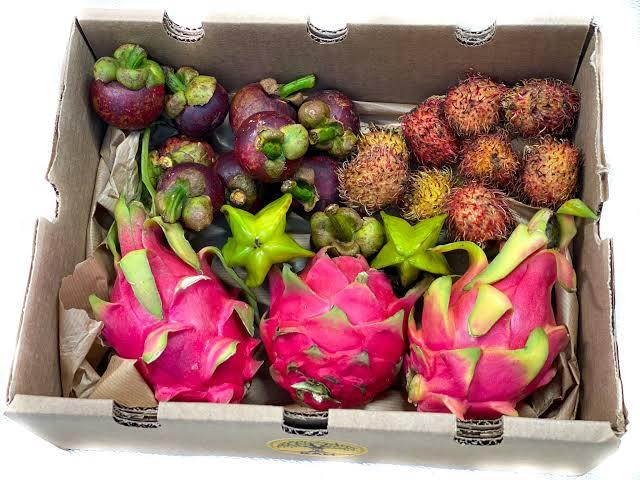chom_chom: (505, 75, 582, 143), (338, 140, 411, 209), (449, 182, 516, 248), (520, 138, 583, 205), (444, 71, 505, 135)
mang_cut: (89, 44, 166, 128), (234, 110, 310, 183)
thanh_long: (98, 195, 264, 405), (413, 240, 573, 415), (260, 245, 408, 405)
